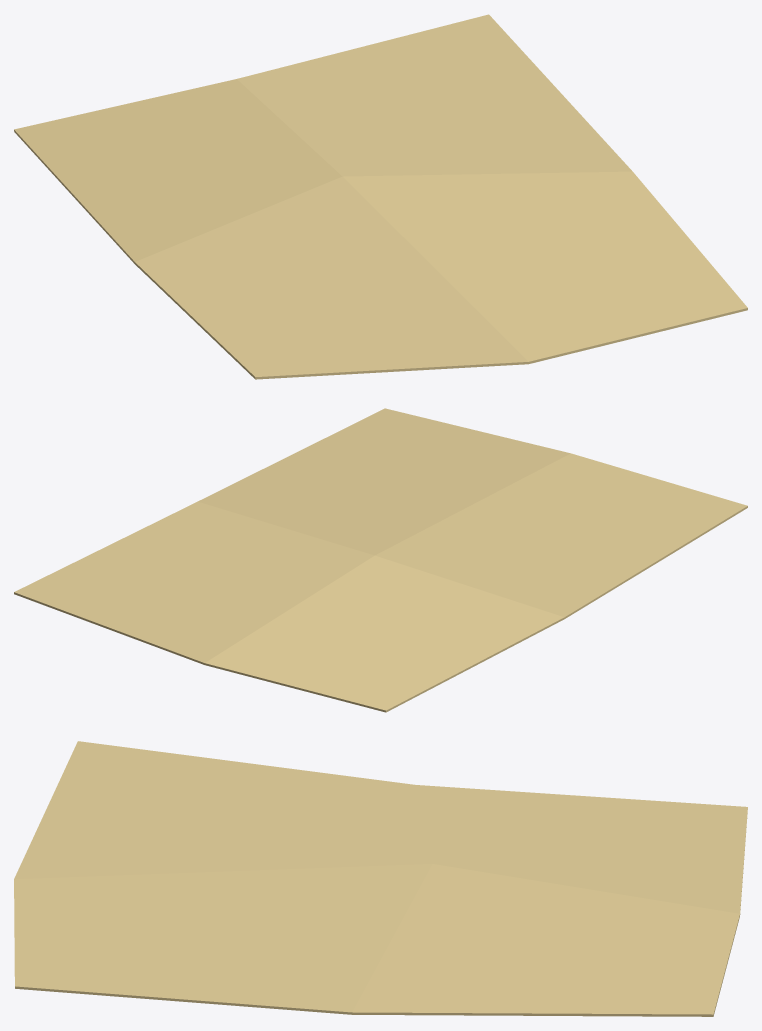
File: Paper_002.fbx
3 views of the same model, one above another, from view 1: azimuth 30°, elevation 25°; view 2: azimuth 150°, elevation 25°; view 3: azimuth 270°, elevation 25° (orthographic). The views are drawn at different scales.
Visible parts, largest first — view 1: Paper_002; view 2: Paper_002; view 3: Paper_002.
Part boxes in pixels (<box>): Paper_002: <box>14,14,747,379</box>; Paper_002: <box>14,408,747,712</box>; Paper_002: <box>14,741,747,1016</box>.
Bounding box in the file's own units: 139 × 7 × 160.
